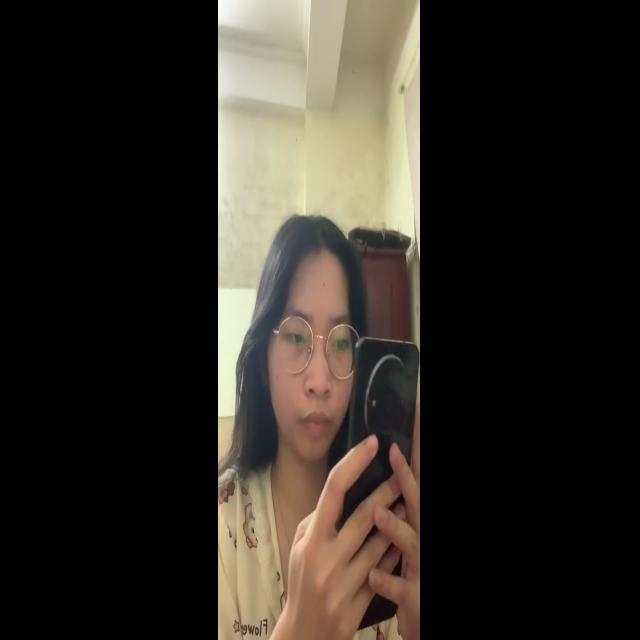phone: (350, 327, 416, 635)
student: (245, 198, 351, 501)
